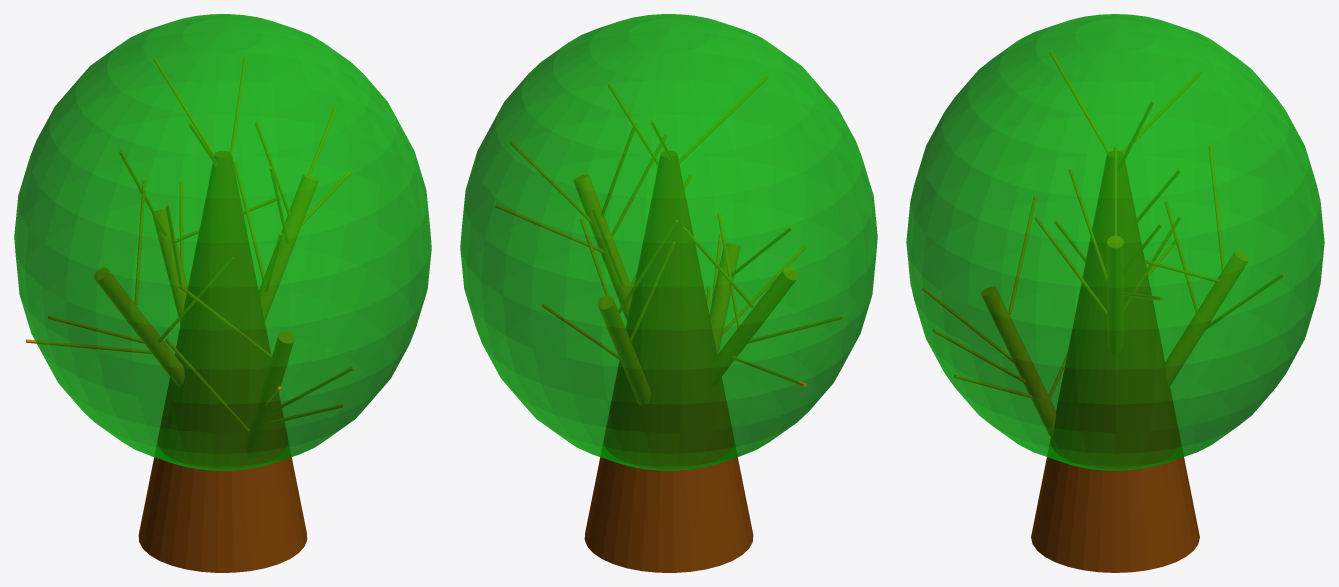
Rendered from LE_Tree1.fbx.
3 views of the same model, side by side, from view 1: azimuth 30°, elevation 25°; view 2: azimuth 150°, elevation 25°; view 3: azimuth 270°, elevation 25° (orthographic).
Visible parts, largest first — view 1: Cone; view 2: Cone; view 3: Cone.
Boxes of the visible parts, x1,y1,x2,y2 form: Cone: [14, 14, 431, 572]; Cone: [460, 14, 877, 572]; Cone: [906, 14, 1324, 572].
Size of the model in its own units: 495 by 660 by 495.
